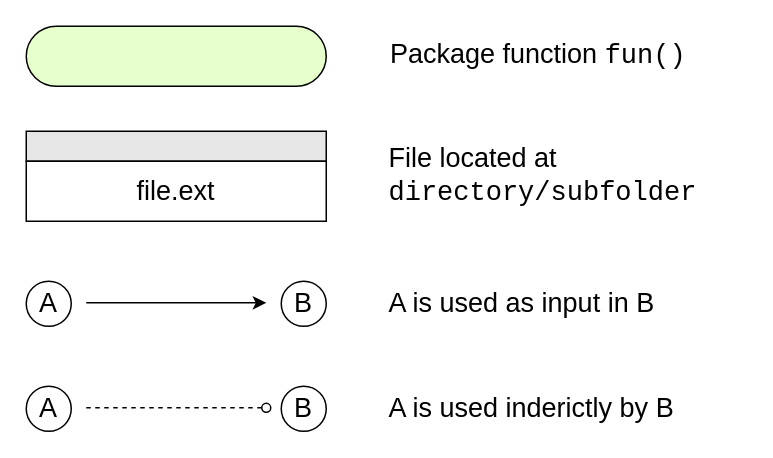
This 773x458 diagram has some shape labels left out. Each missing label, with the box of its shape:
directory/subfolder: (25, 130, 326, 161)
fun(): (25, 25, 326, 86)
